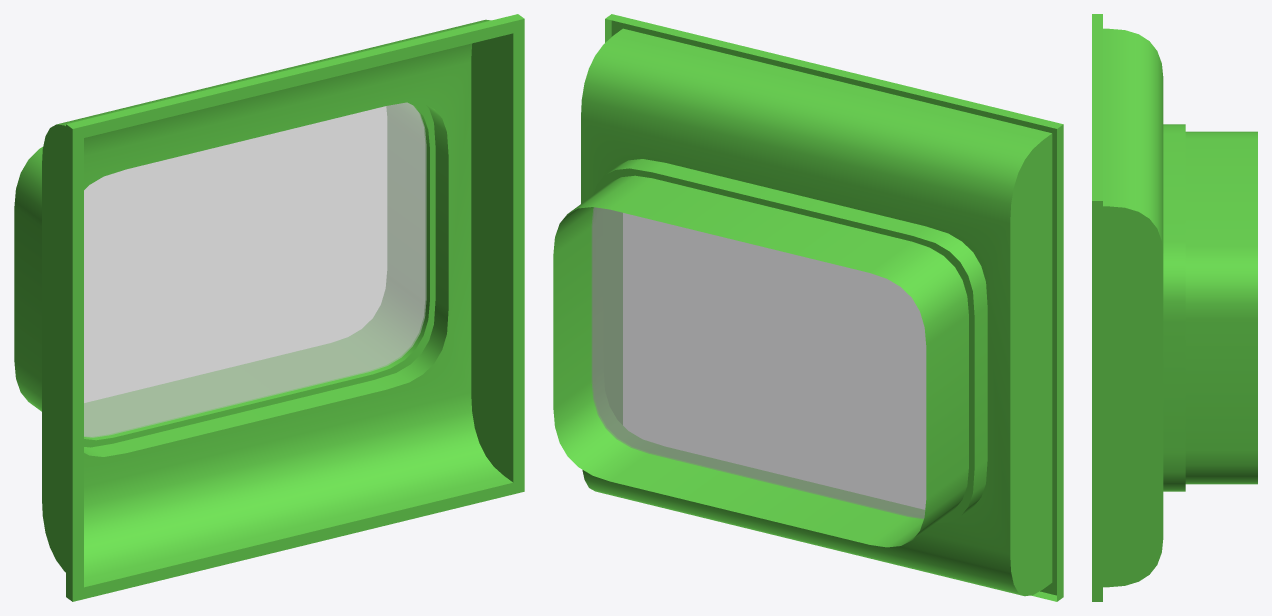
Rendered from Wall_E_4x4m.FBX.
The picture shows the model from 3 angles, left to right: view 1: azimuth 30°, elevation 25°; view 2: azimuth 150°, elevation 25°; view 3: azimuth 270°, elevation 25°; orthographic projection. The views are drawn at different scales.
Parts seen in each view (by area): view 1: Wall_E_4x4m; view 2: Wall_E_4x4m; view 3: Wall_E_4x4m.
Part boxes in pixels (x1,y1,x2,y2): Wall_E_4x4m: [14, 14, 524, 601]; Wall_E_4x4m: [553, 14, 1063, 601]; Wall_E_4x4m: [1092, 14, 1257, 601].
Bounding box in the file's own units: 400 × 400 × 150.
